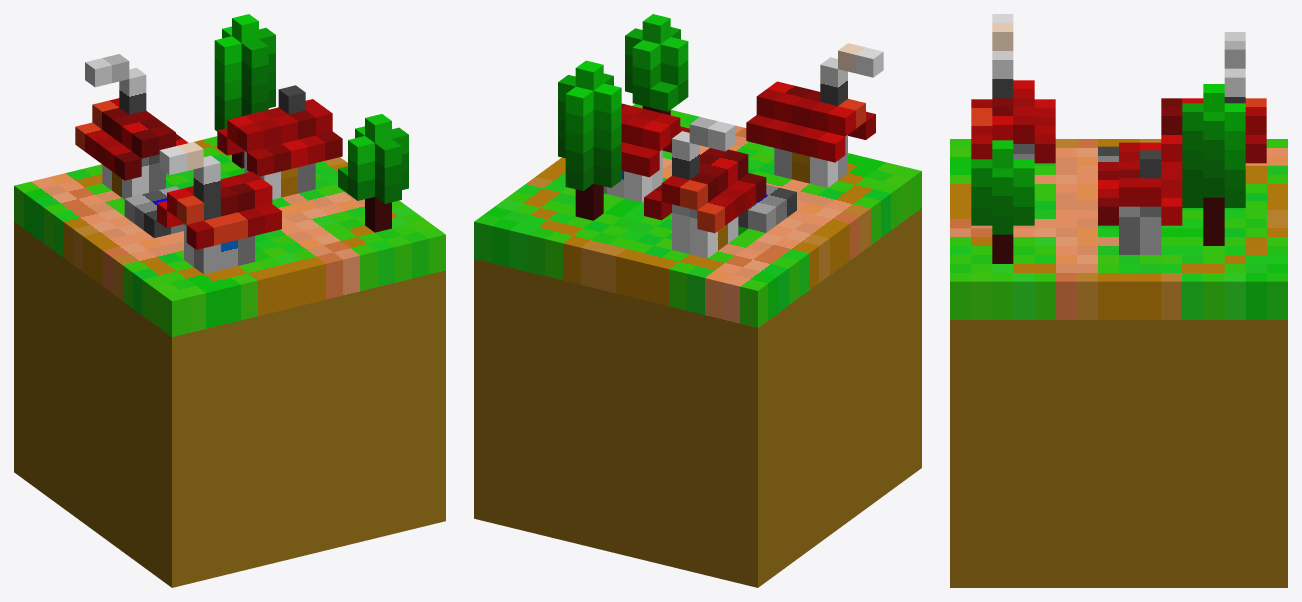
The model's file is village.gltf.
3 views of the same model, side by side, from view 1: azimuth 30°, elevation 25°; view 2: azimuth 150°, elevation 25°; view 3: azimuth 270°, elevation 25° (orthographic). The views are drawn at different scales.
Parts seen in each view (by area): view 1: Content-Mesh; view 2: Content-Mesh; view 3: Content-Mesh.
Part boxes in pixels (x1,y1,x2,y2): Content-Mesh: (14, 14, 445, 587); Content-Mesh: (474, 14, 921, 587); Content-Mesh: (950, 14, 1287, 587).
Size of the model in its own units: 16 by 24 by 16.
Materials: 1 (1 with a texture image).
